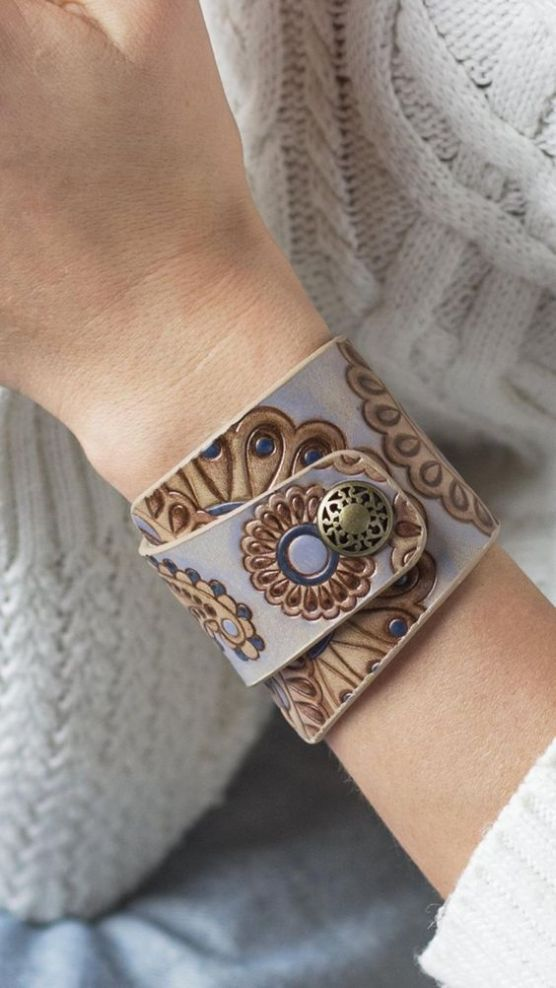cuero: (129, 335, 497, 744)
